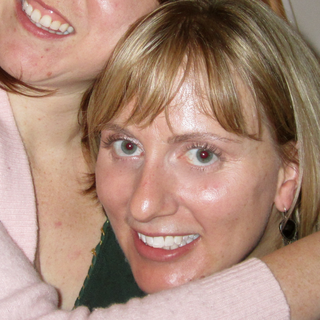eye: (172, 135, 231, 174), (101, 132, 149, 164)
